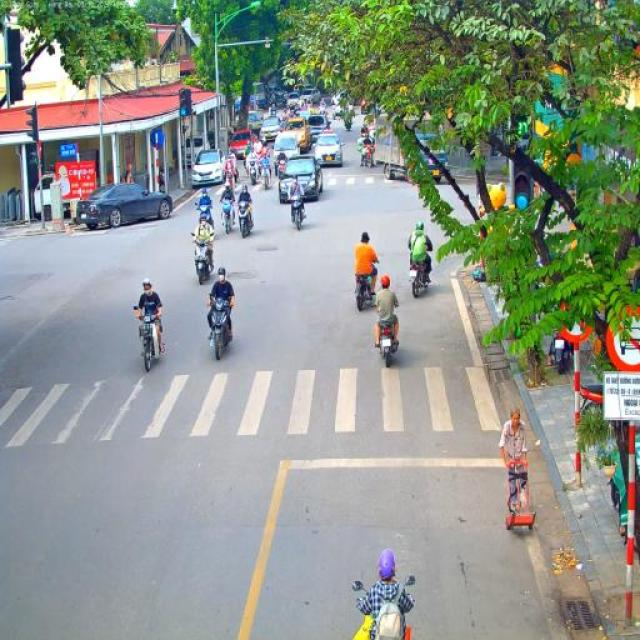car: (75, 182, 174, 230), (277, 155, 325, 203), (190, 149, 224, 190), (310, 131, 344, 169), (274, 130, 300, 176), (227, 130, 255, 168), (286, 118, 312, 154), (305, 113, 330, 147), (260, 116, 281, 146), (299, 86, 322, 105), (248, 110, 264, 135), (270, 88, 288, 104), (293, 82, 313, 94), (288, 92, 301, 108)
motorcycle: (352, 575, 416, 640), (133, 303, 162, 372), (207, 292, 234, 361), (374, 302, 398, 368), (352, 261, 378, 311), (190, 232, 214, 284), (408, 254, 432, 298), (552, 328, 572, 374), (236, 201, 255, 238), (288, 194, 306, 231), (195, 202, 214, 233), (221, 198, 235, 234), (257, 163, 272, 191), (245, 159, 260, 186), (360, 141, 375, 168), (224, 167, 237, 191), (276, 159, 288, 182), (286, 106, 296, 122), (319, 104, 327, 120), (343, 118, 352, 132), (331, 103, 338, 119), (362, 130, 372, 141), (269, 106, 276, 120), (279, 119, 285, 132)
truck: (371, 114, 441, 184), (33, 174, 81, 221), (234, 80, 270, 114)
